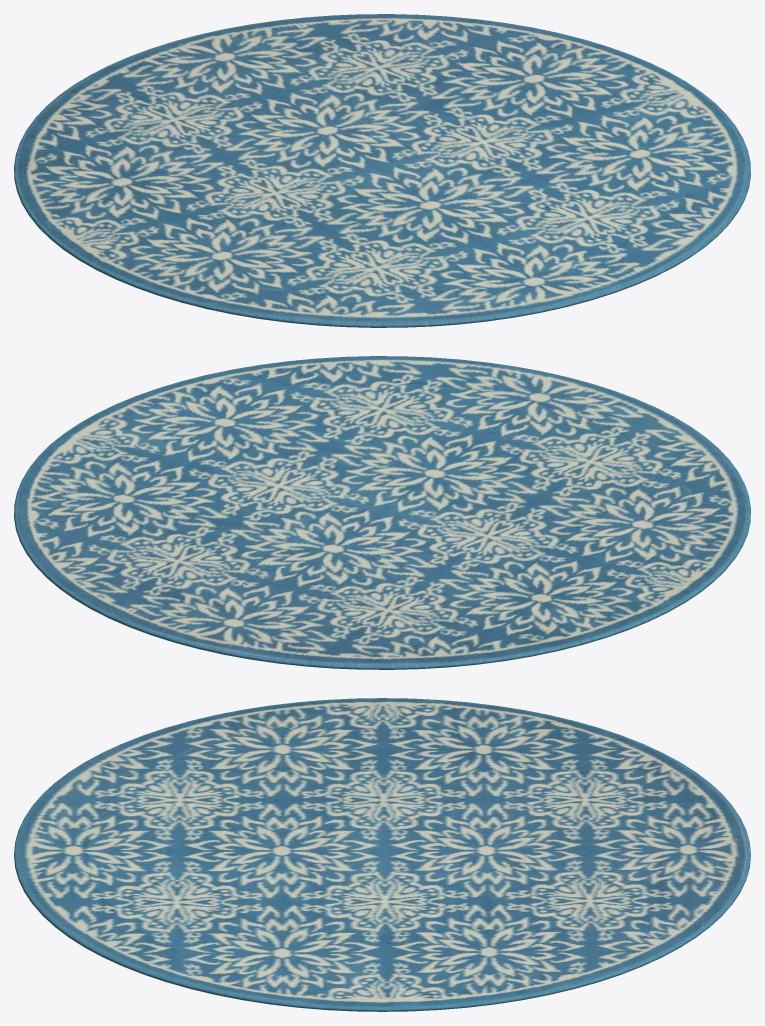
The model's file is B07QGG5LLM.glb.
The picture shows the model from 3 angles, top to bottom: view 1: azimuth 30°, elevation 25°; view 2: azimuth 150°, elevation 25°; view 3: azimuth 270°, elevation 25°; orthographic projection.
Visible parts, largest first — view 1: RootNode; view 2: RootNode; view 3: RootNode.
Boxes of the visible parts, x1,y1,x2,y2 form: RootNode: (14,14,750,327); RootNode: (14,356,750,669); RootNode: (14,698,750,1011).
Bounding box in the file's own units: 1.59 × 0.0119 × 1.59.
1 material, 1 textured.
